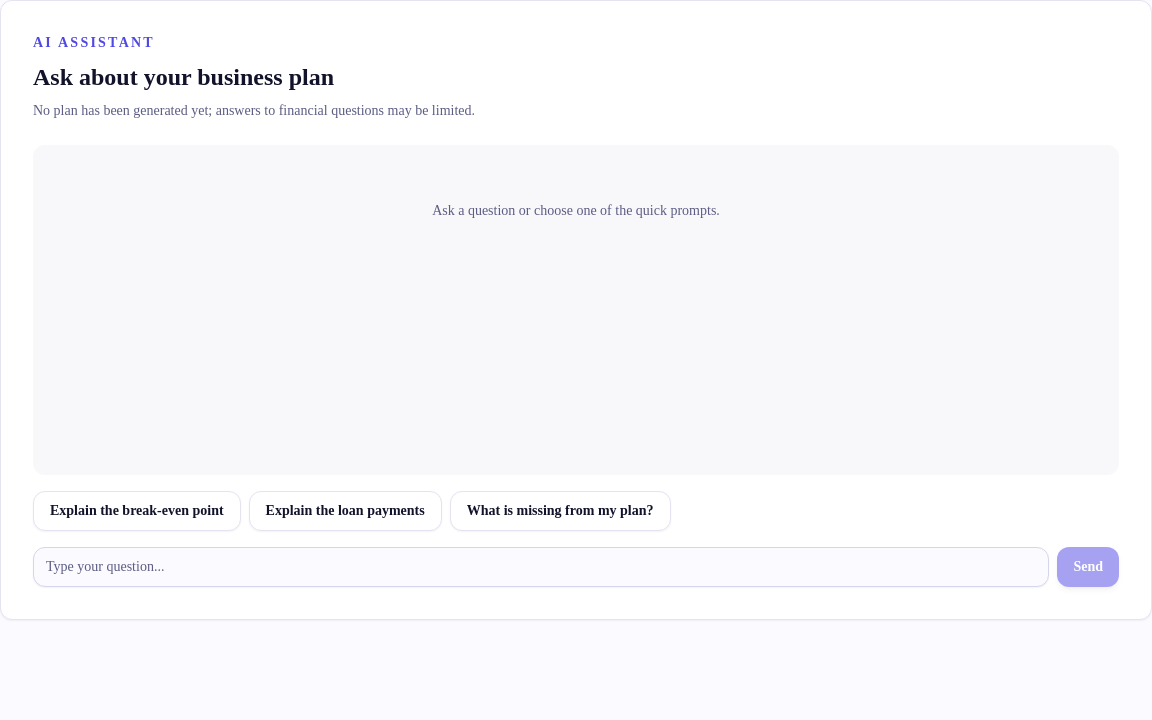
AI chat panel › copies a completed assistant response
Type "How do taxes work?" into the field named "Your message" at (541, 567), box [33, 547, 1049, 587]
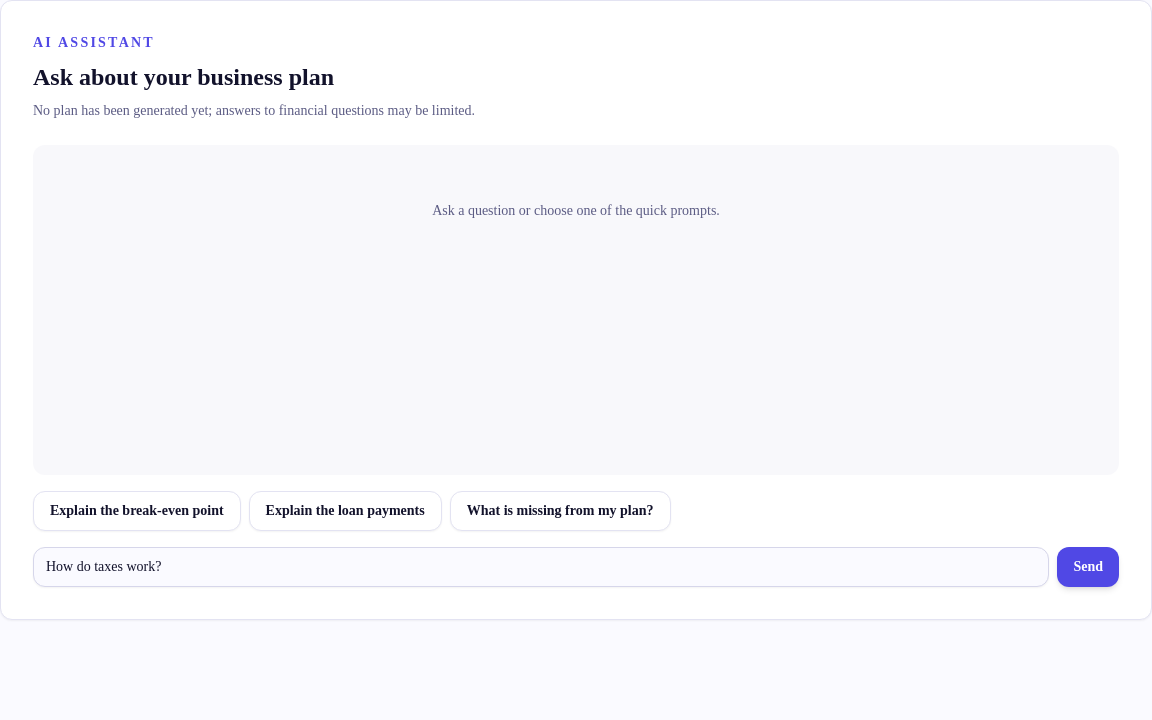
Click the button "Send" at (1088, 567), box [1057, 547, 1119, 587]
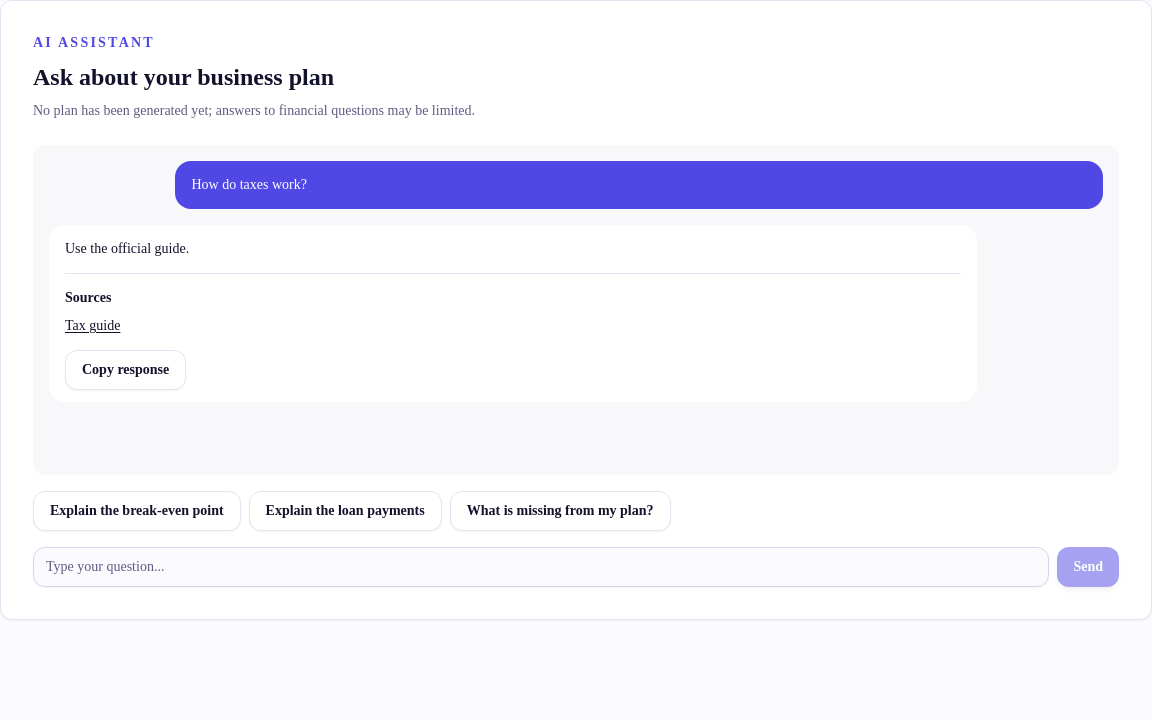
Click the button "Copy response" at (126, 370), box [65, 350, 186, 390]
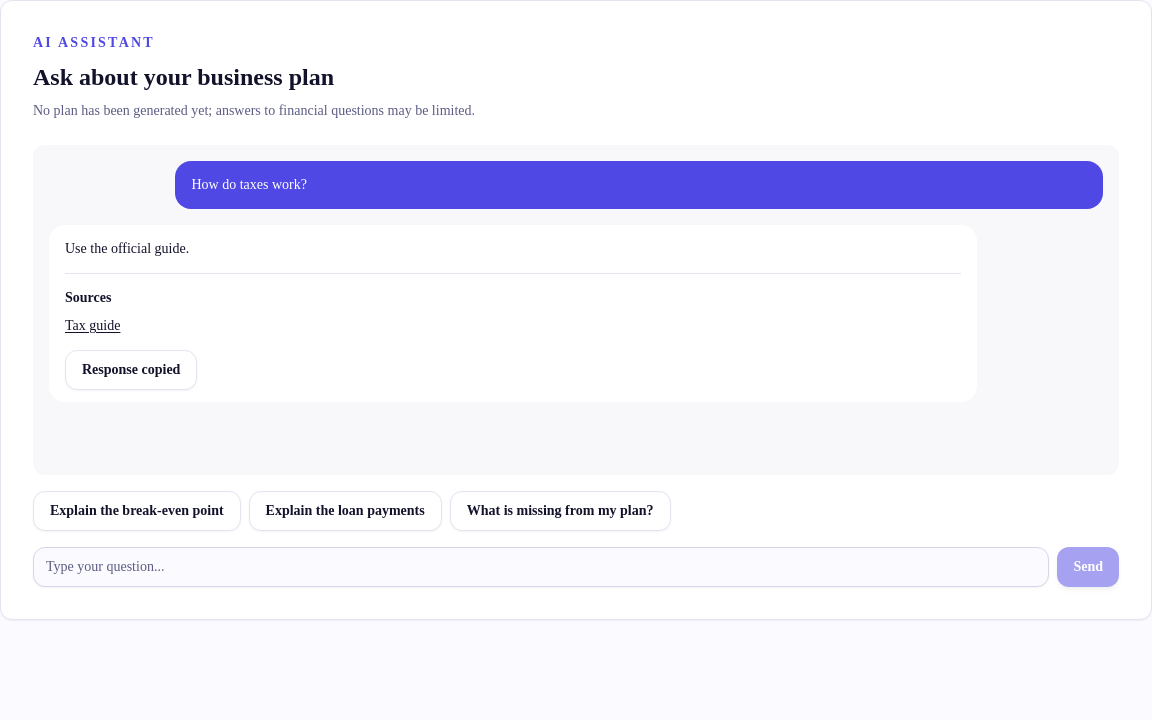
Expected: the button "Response copied" is shown, [65, 350, 197, 390]
